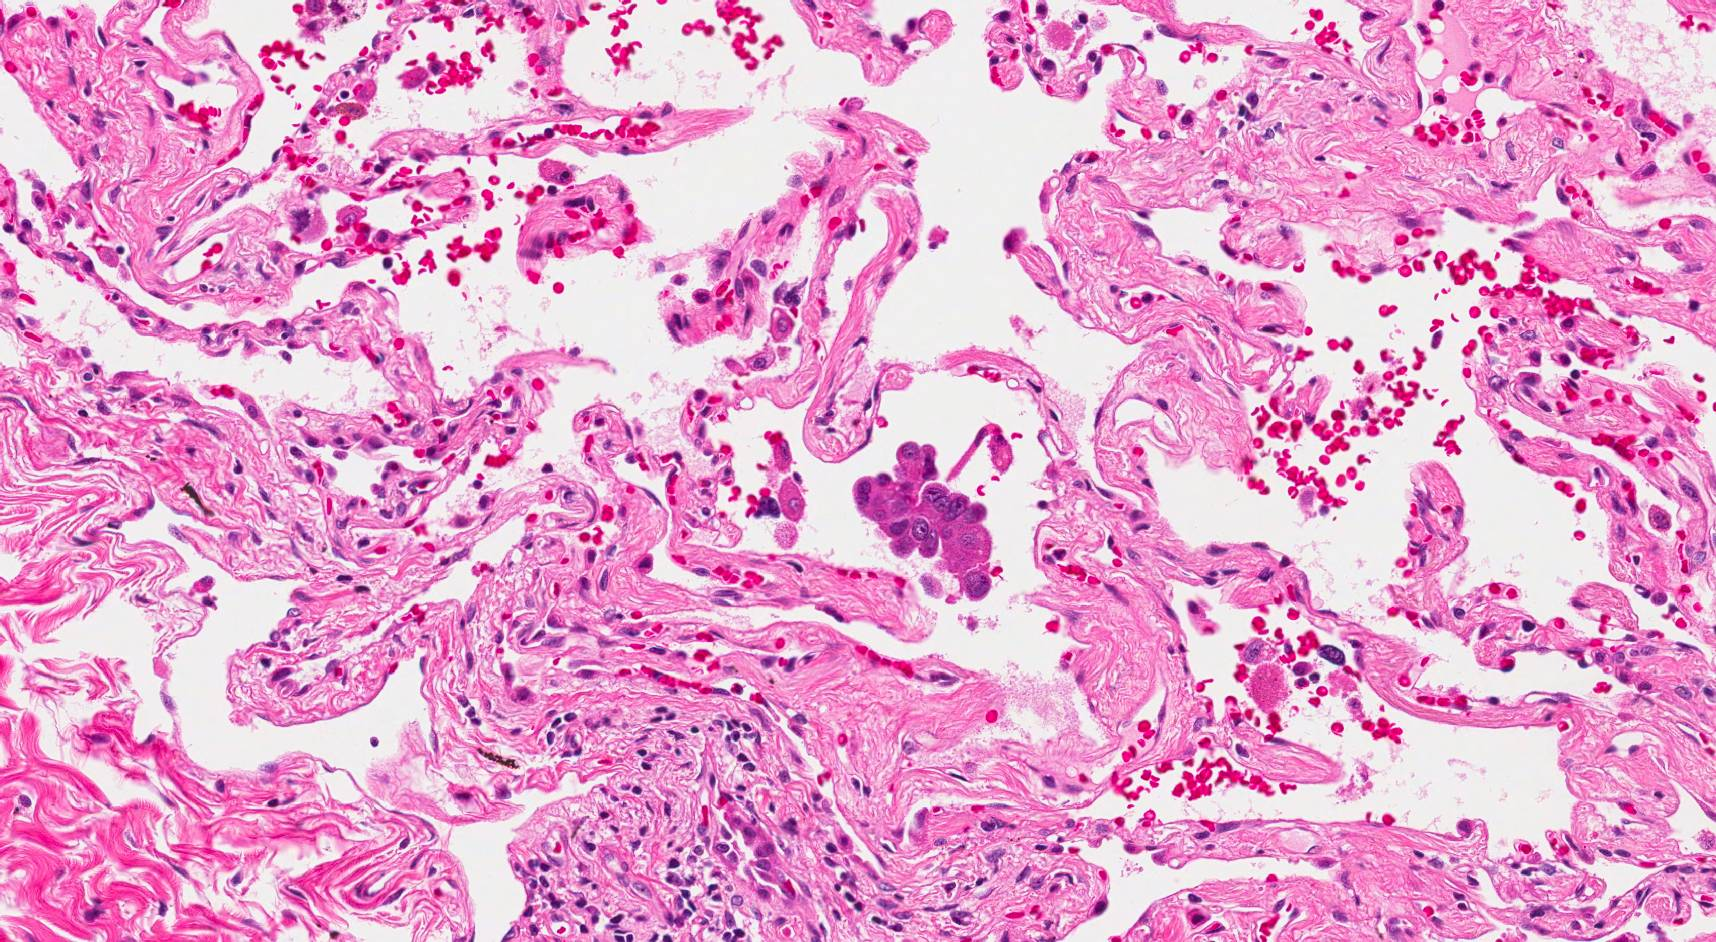stas: (852, 440, 993, 606)
